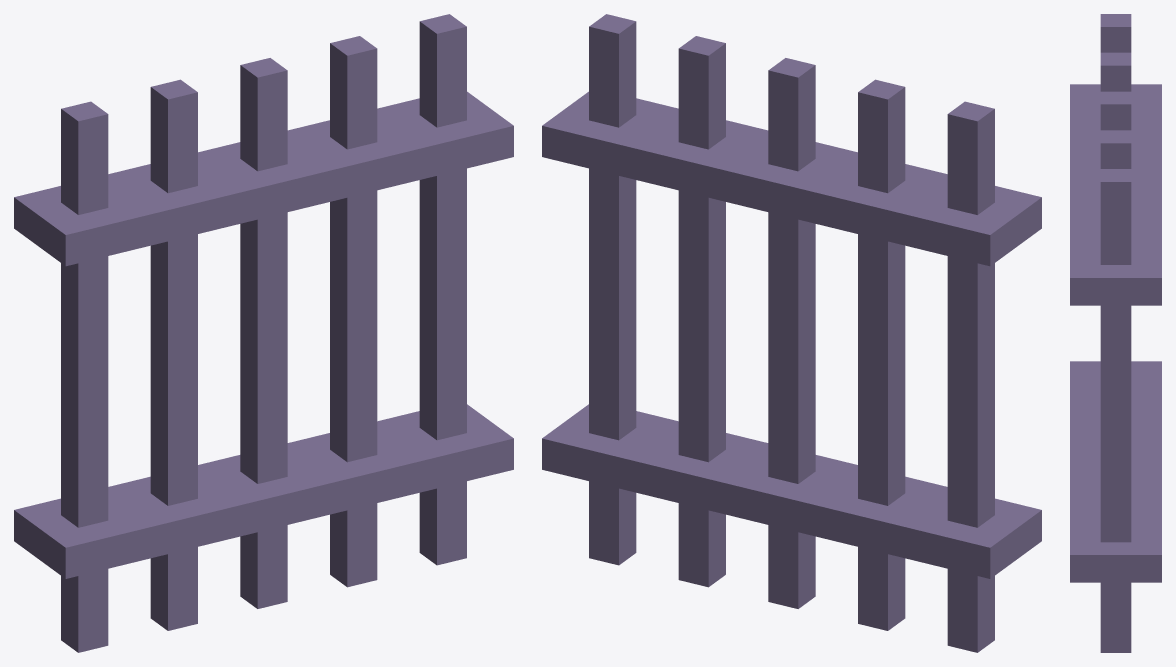
File: gate_a.obj
3 renders of one model, left to right at view 1: azimuth 30°, elevation 25°; view 2: azimuth 150°, elevation 25°; view 3: azimuth 270°, elevation 25°, orthographic. The views are drawn at different scales.
Bounding box in the file's own units: 1.5 × 1.7 × 0.3.
Materials: 1 (1 with a texture image).
